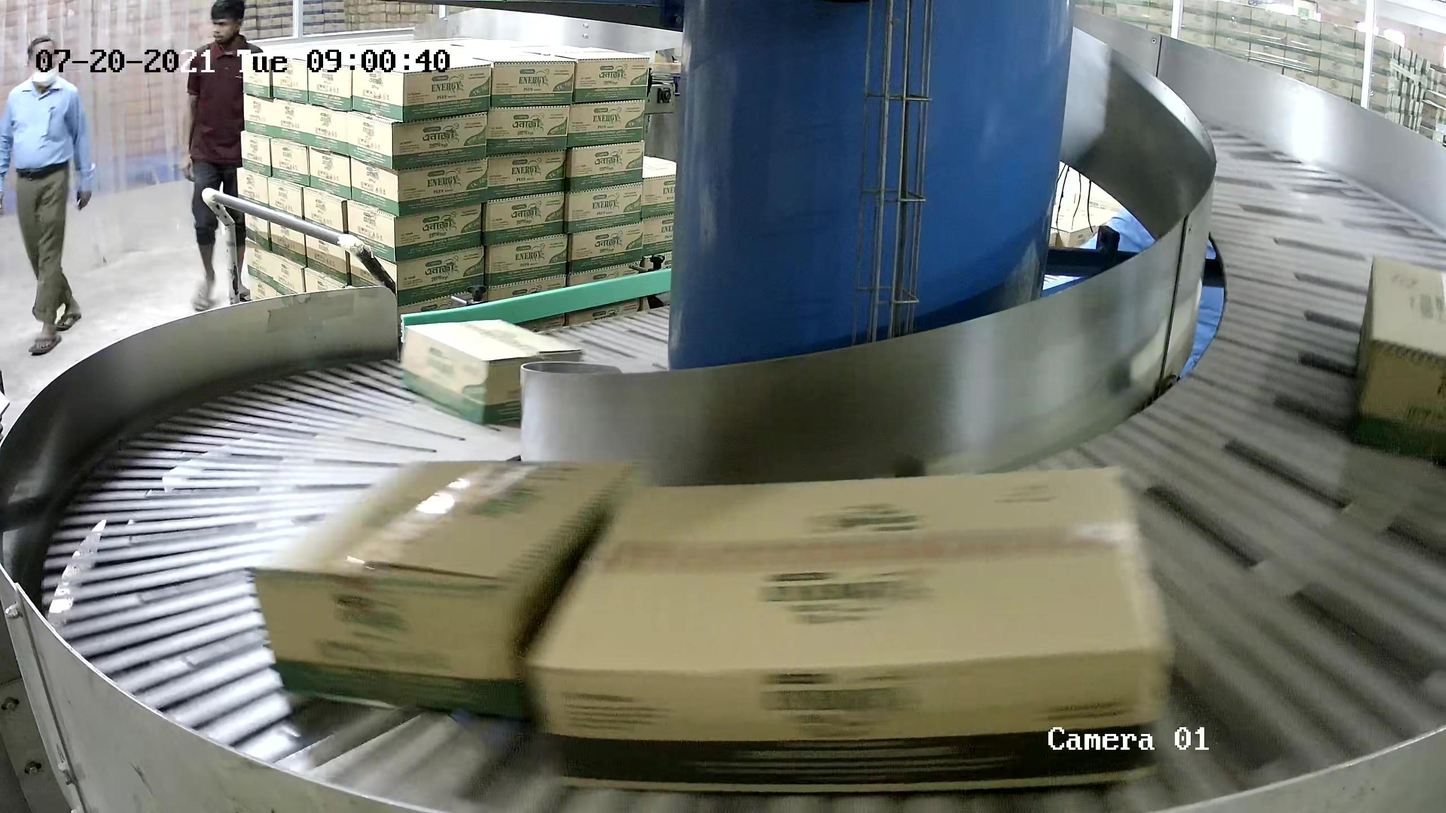Box: (522, 464, 1176, 797), (246, 457, 654, 723), (1347, 251, 1446, 467), (400, 318, 583, 427)
